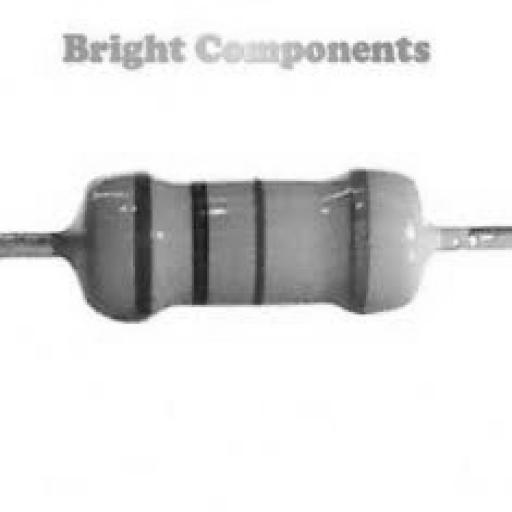RESISTOR: (25, 126, 491, 425)
